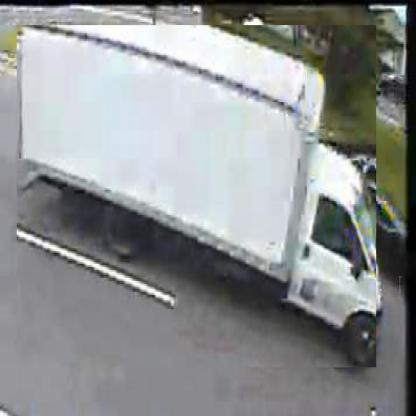truck: (18, 26, 378, 370)
